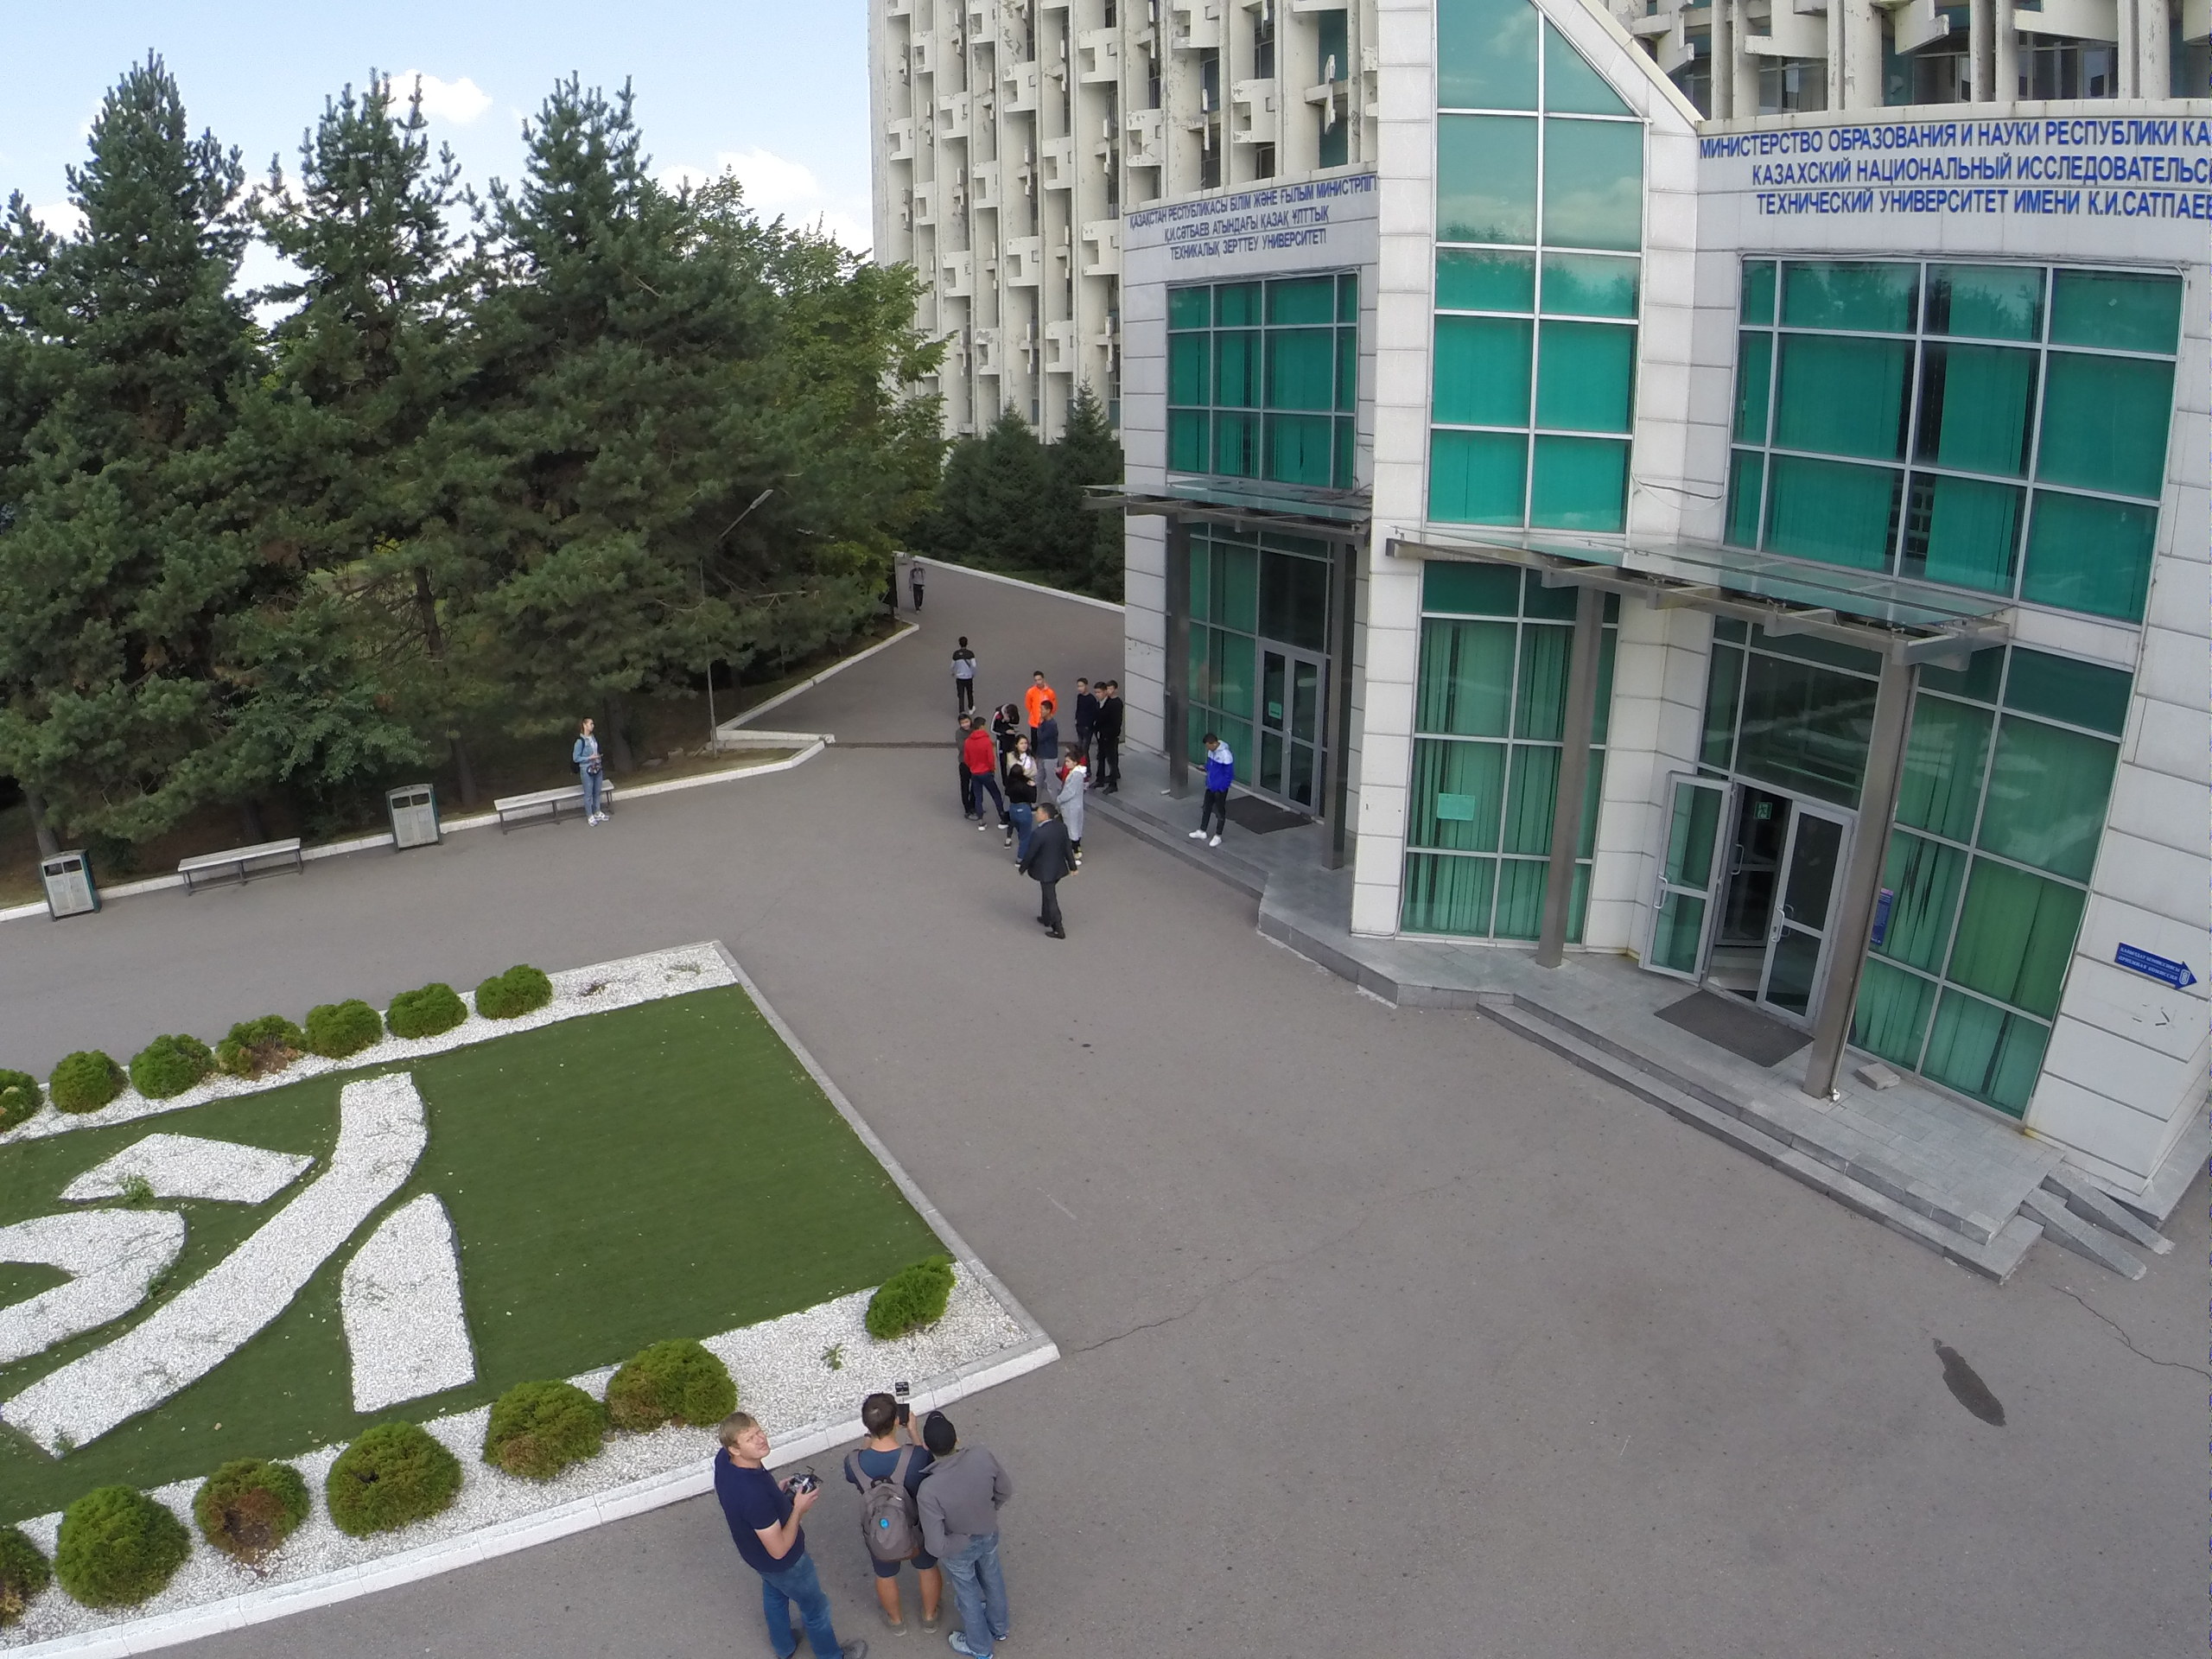person: (714, 1412, 823, 1647), (847, 1391, 944, 1650), (924, 1399, 1010, 1659), (1020, 804, 1077, 941), (1190, 730, 1236, 854), (573, 718, 609, 831), (970, 715, 1005, 832), (1005, 764, 1033, 872), (1093, 682, 1120, 794), (950, 635, 979, 711), (1059, 750, 1089, 818), (955, 715, 974, 821), (1073, 678, 1091, 747), (1023, 670, 1055, 704), (910, 559, 925, 615), (994, 701, 1017, 739), (1010, 735, 1030, 760)
